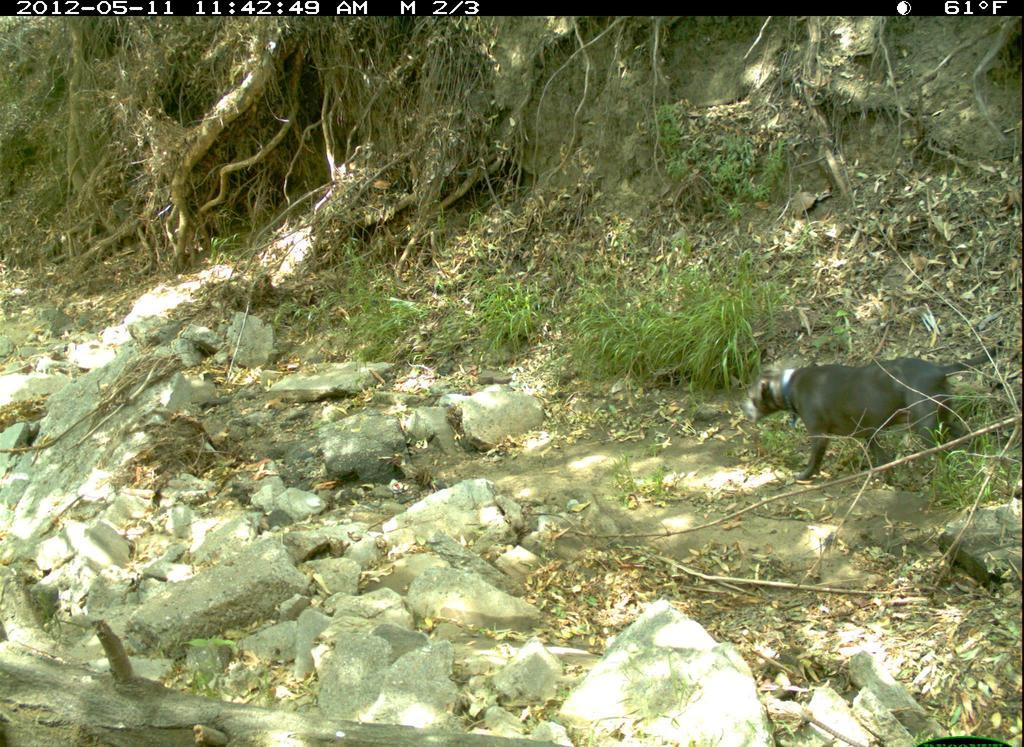dog: (739, 338, 1010, 491)
